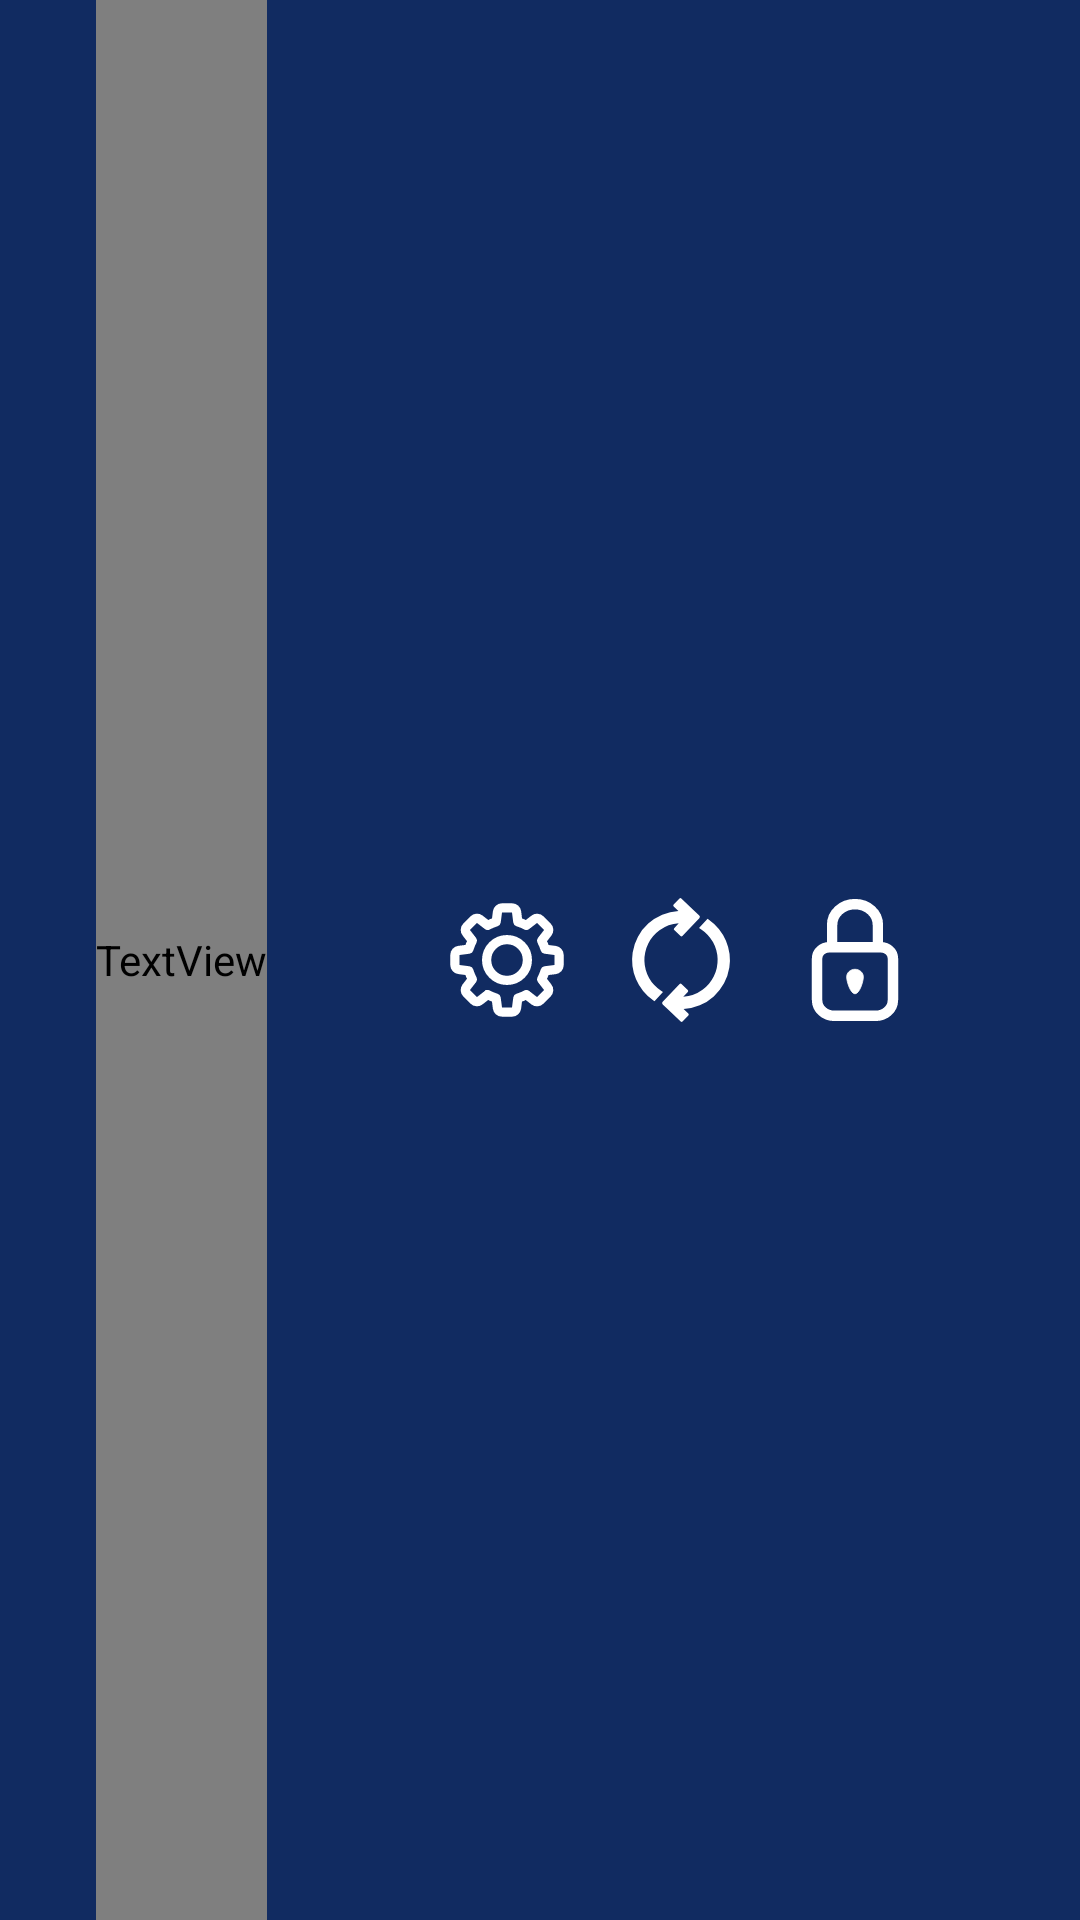

Point at icon controls on the screen. Image size 1080 x 1920, points as [x,y].
lock: [855,960]
settings: [507,960]
sync: [681,960]
